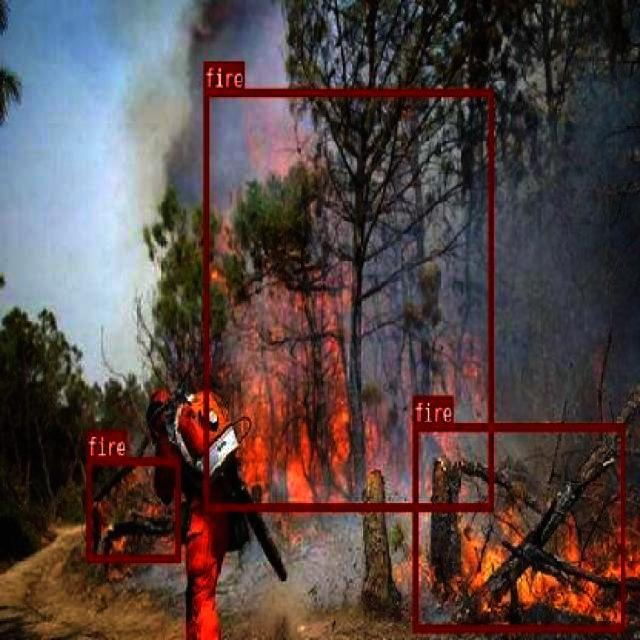fire: (203, 88, 492, 510), (412, 422, 625, 630), (86, 456, 179, 562)
